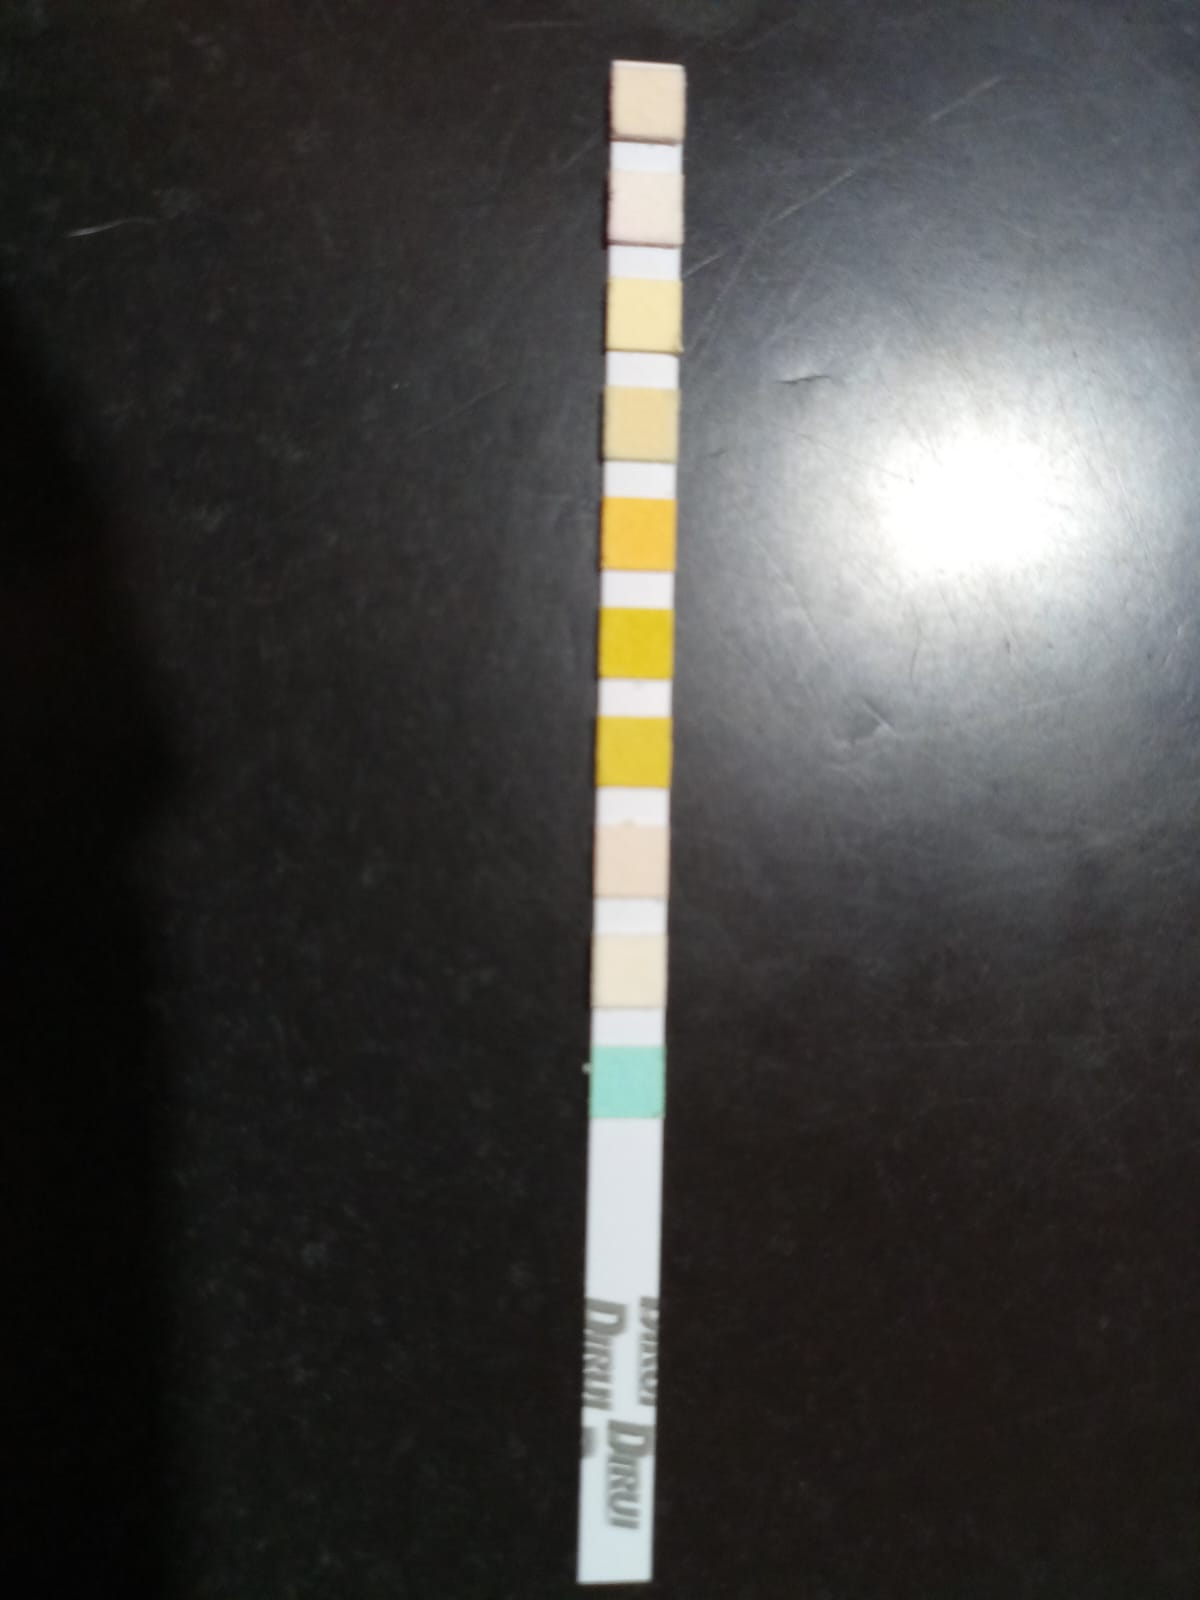color 1: (616, 71, 682, 135)
color 10: (592, 1049, 661, 1115)
color 2: (613, 175, 679, 242)
color 3: (610, 283, 679, 346)
color 4: (608, 391, 676, 456)
color 5: (606, 501, 671, 568)
color 6: (603, 612, 671, 671)
color 7: (599, 719, 668, 784)
color 8: (599, 831, 666, 892)
color 9: (597, 940, 664, 1002)
